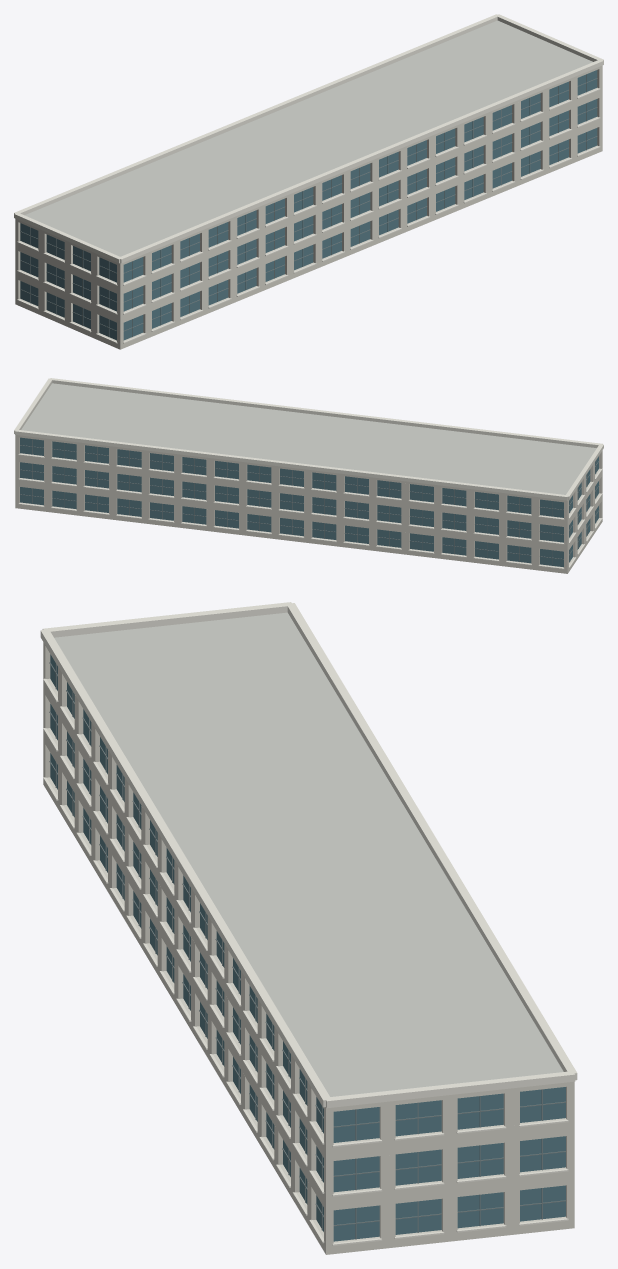
3 views of the same model, one above another, from view 1: azimuth 30°, elevation 25°; view 2: azimuth 150°, elevation 25°; view 3: azimuth 270°, elevation 25° (orthographic). The views are drawn at different scales.
Parts seen in each view (by area): view 1: roof, wall, glass, trim, metal; view 2: roof, wall, glass, trim, metal; view 3: roof, wall, glass, trim, metal.
Part boxes in pixels (x1,y1,x2,y2): roof: [25, 20, 592, 256]; wall: [15, 65, 602, 349]; glass: [20, 70, 597, 340]; trim: [14, 14, 603, 343]; metal: [20, 74, 597, 336]; roof: [21, 383, 596, 494]; wall: [15, 435, 602, 573]; glass: [20, 437, 598, 567]; trim: [14, 378, 603, 569]; metal: [20, 439, 599, 565]; roof: [54, 612, 563, 1096]; wall: [43, 642, 574, 1254]; glass: [50, 654, 565, 1241]; trim: [40, 602, 577, 1245]; metal: [49, 662, 565, 1239].
Bounding box in the file's own units: 67.33 × 9.74 × 30.6.
